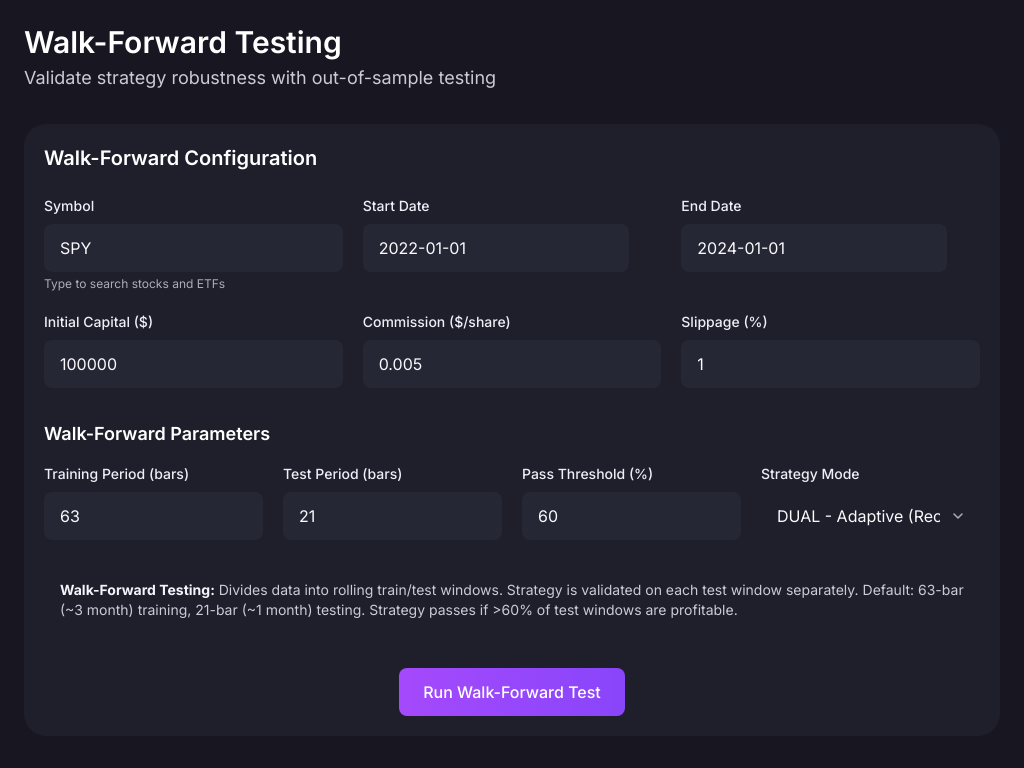
Test: Walk-Forward Page › displays error message when walk-forward fails
Click the button "Run Walk-Forward Test": (512, 692) [399,668,625,716]
(page scrolled)
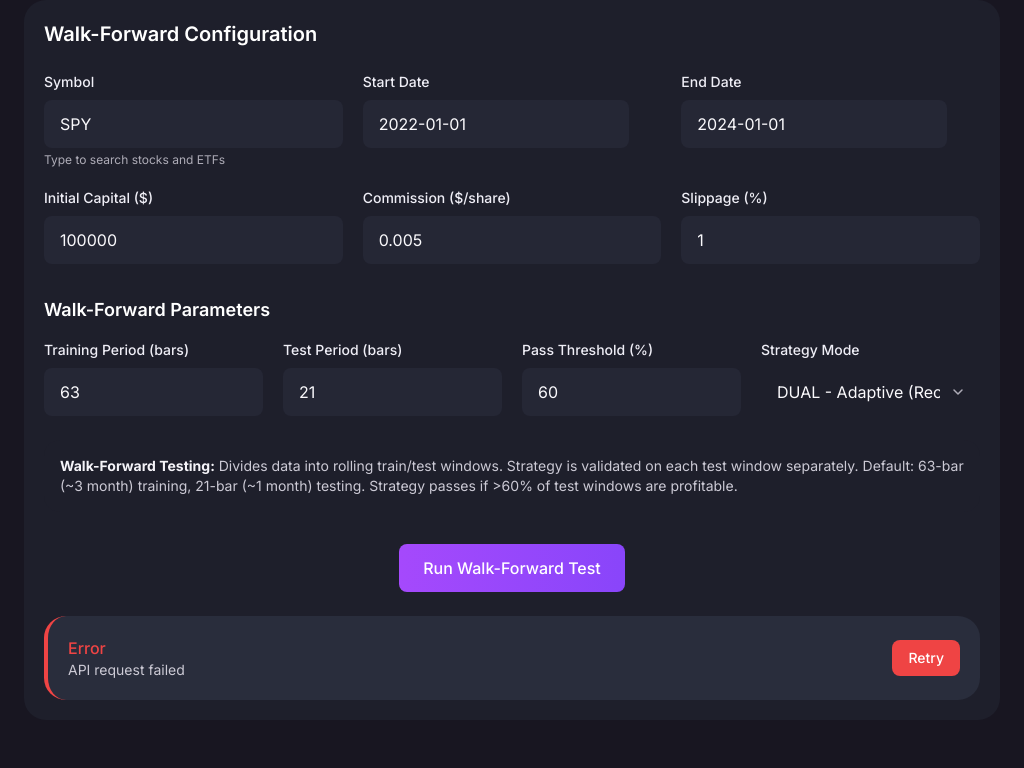
Expected: the text "Error" is shown, [68,638,106,658]
Expected: the text "API request failed" is shown, [68,660,185,680]
